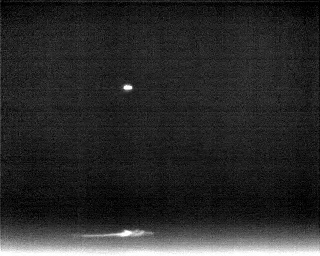AIRPLANE: (121, 81, 135, 94)
